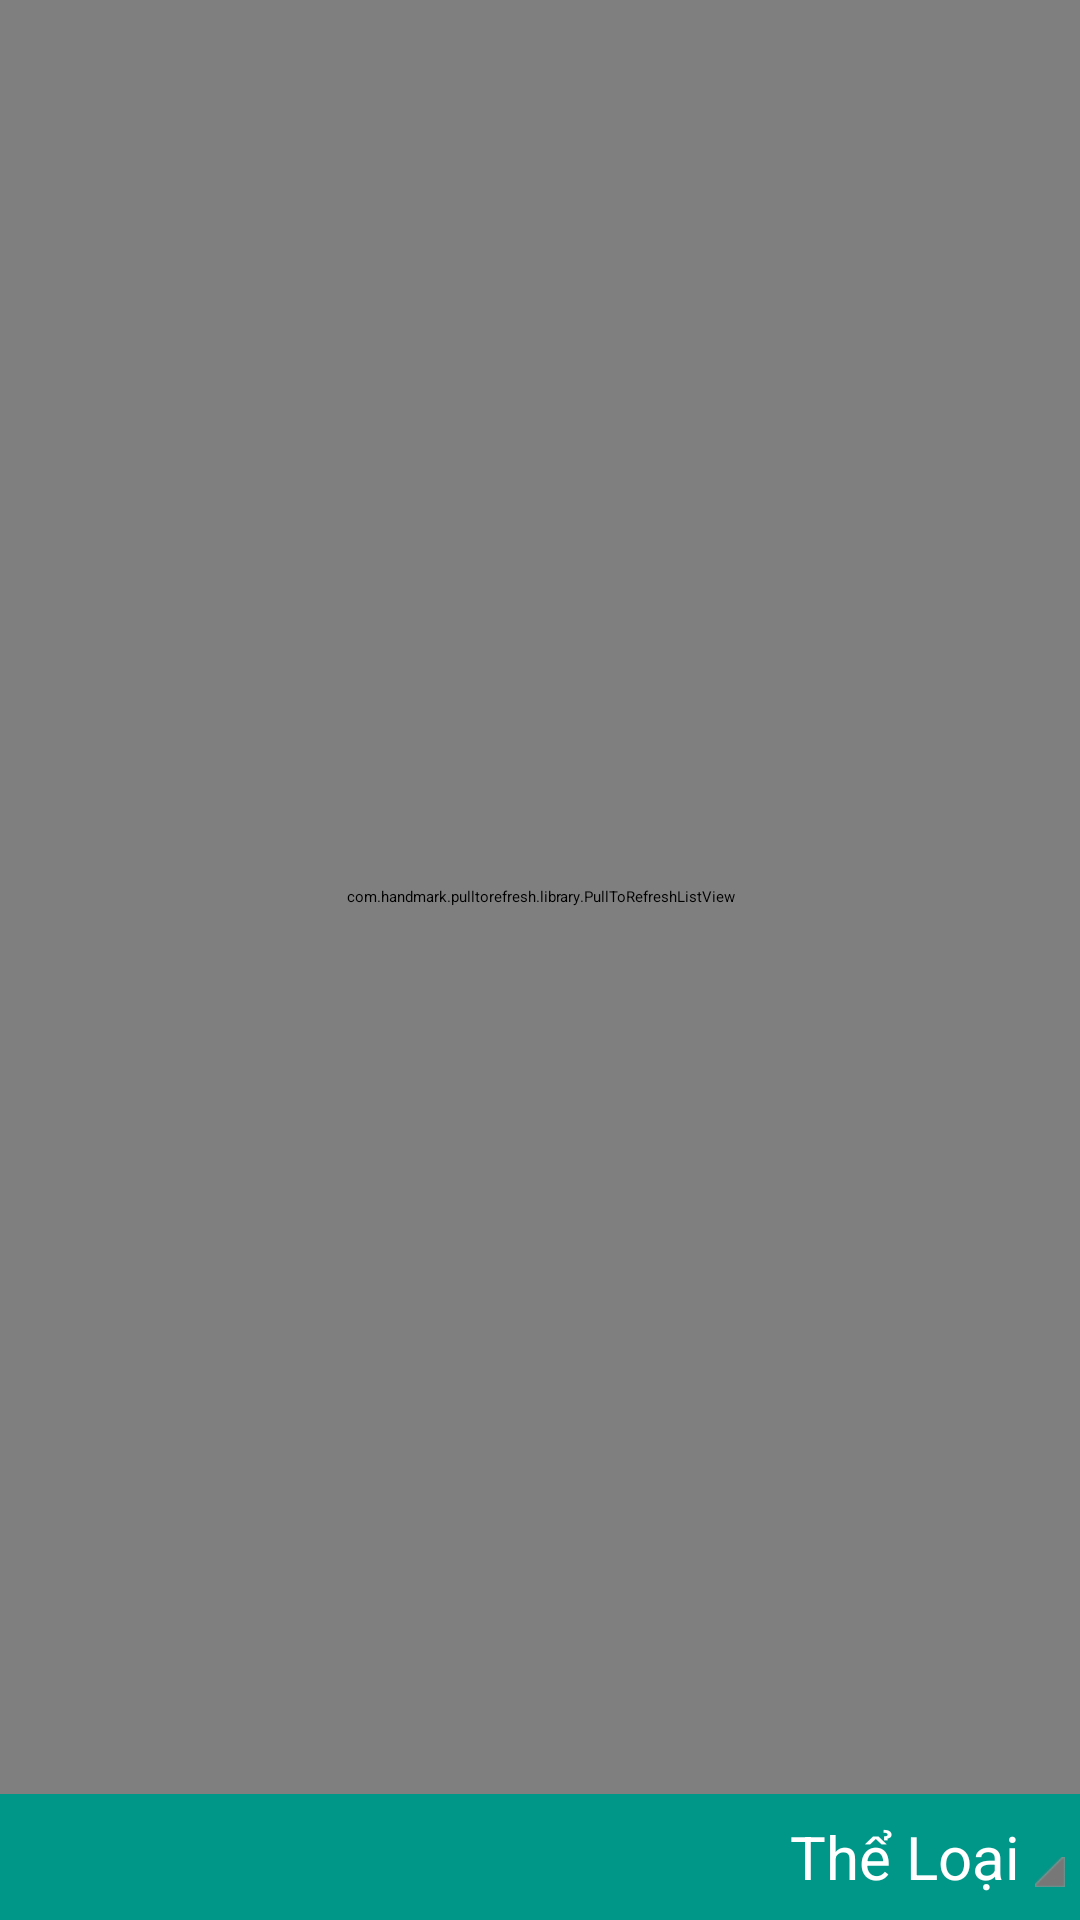

Icon click points for this 1080×1920 phone screenshot, format point (x, y):
spinner: point (1050, 1872)
